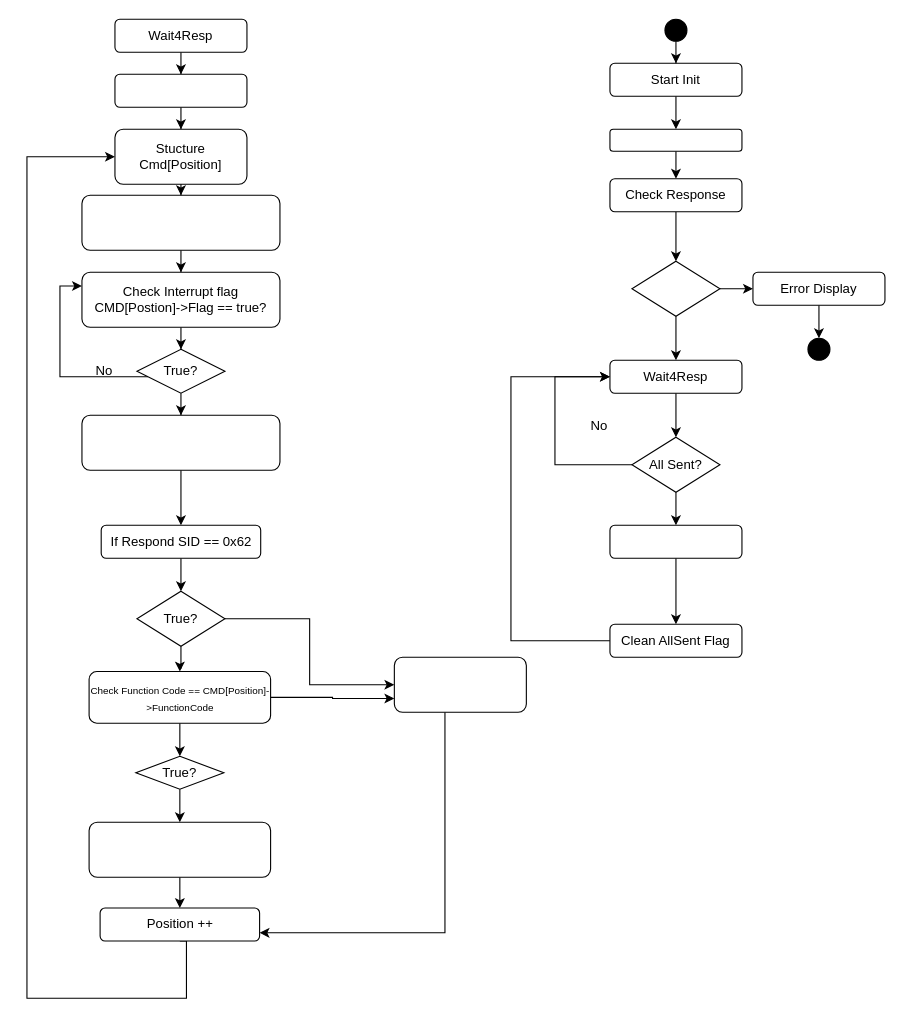
Some shapes in this 904 by 1026 pixel diagram are drawn without their labels. The box of each missing label's shape, as (x1, y1, x2, y2) in pixels:
0x50?: (631, 260, 720, 316)
Display All: (609, 524, 742, 558)
Position = 0: (114, 73, 247, 107)
Receive CAN MSG CanGetMsg with CMD[Position]->GetBuf: (81, 414, 280, 470)
Send CAN MSG CanSetMsg with CMD[Position]->SentBuf: (81, 194, 280, 250)
Send Session Req: (609, 128, 742, 151)
Set Display Value= Error: (393, 656, 526, 712)
Set Value to CMD[Postion]->Respone Value: (88, 821, 271, 877)
